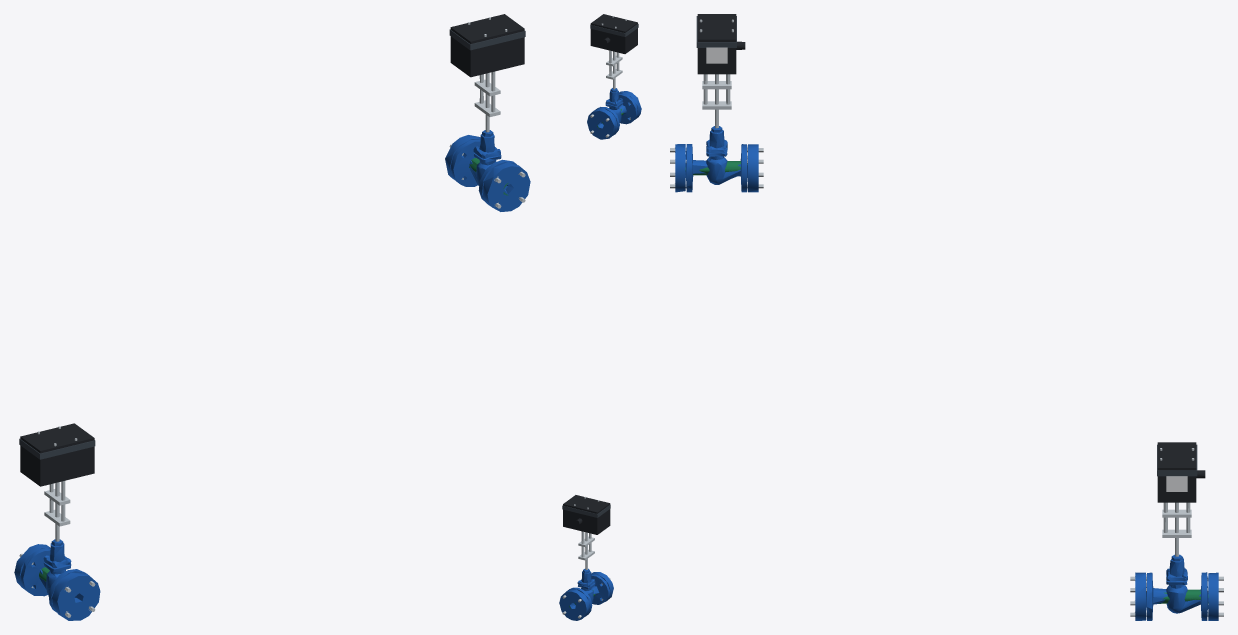
Rendered from modulation.glb.
The picture shows the model from 3 angles, left to right: view 1: azimuth 30°, elevation 25°; view 2: azimuth 150°, elevation 25°; view 3: azimuth 270°, elevation 25°; orthographic projection. The views are drawn at different scales.
Visible parts, largest first — view 1: mod_eco_drive, mod_direct_drive, mod_eco, mod_direct; view 2: mod_eco_drive, mod_direct_drive, mod_eco, mod_direct; view 3: mod_direct_drive, mod_eco_drive, mod_eco, mod_direct.
Part boxes in pixels (x1=…): mod_eco_drive: x1=19, y1=423, x2=95, y2=541; mod_direct_drive: x1=449, y1=14, x2=525, y2=132; mod_eco: x1=14, y1=539, x2=100, y2=620; mod_direct: x1=445, y1=130, x2=530, y2=211; mod_eco_drive: x1=562, y1=495, x2=610, y2=569; mod_direct_drive: x1=590, y1=14, x2=638, y2=89; mod_eco: x1=559, y1=568, x2=613, y2=620; mod_direct: x1=587, y1=88, x2=641, y2=139; mod_direct_drive: x1=696, y1=14, x2=745, y2=128; mod_eco_drive: x1=1157, y1=442, x2=1205, y2=556; mod_eco: x1=1130, y1=554, x2=1223, y2=620; mod_direct: x1=670, y1=126, x2=763, y2=192.
Bounding box in the file's own units: 0.806 × 2.18 × 1.6.
